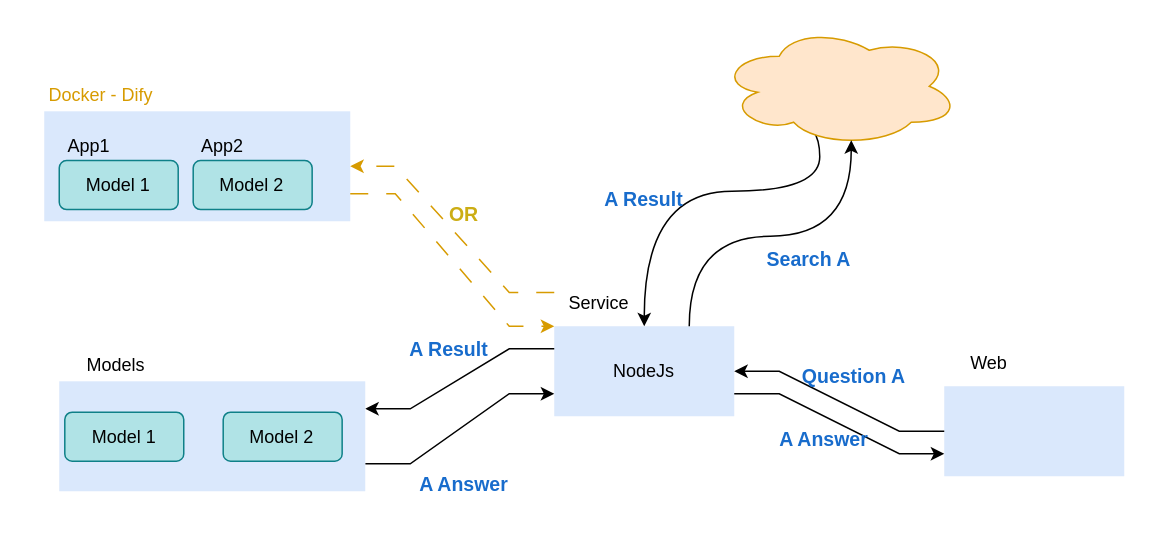
The diagram is 1151 pixels wide and 533 high, and some of its shapes have lost their labels. The shapes that lost their labels are listed below. From the top down, each one's box as (x1, y1, x2, y2) in pixels, then its label:
(718, 25, 959, 146): NetWork ( duckduckgo )
(944, 386, 1124, 476): React
